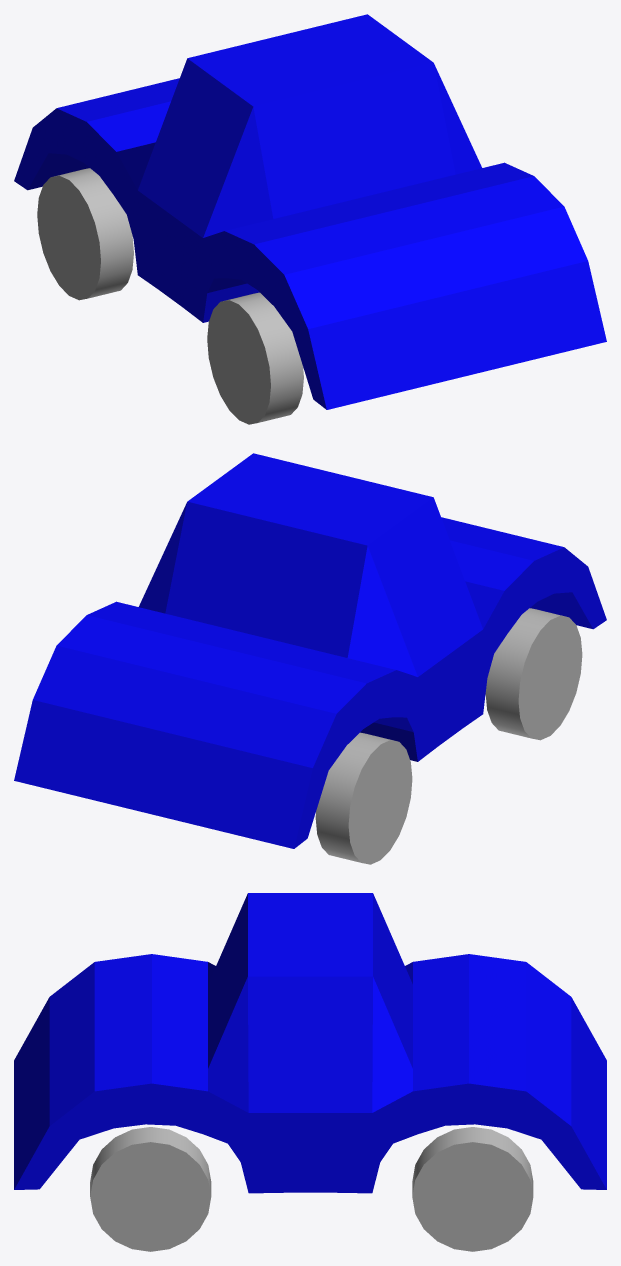
The model's file is ashley_car.glb.
The picture shows the model from 3 angles, top to bottom: view 1: azimuth 30°, elevation 25°; view 2: azimuth 150°, elevation 25°; view 3: azimuth 270°, elevation 25°; orthographic projection. The views are drawn at different scales.
Visible parts, largest first — view 1: polySurface7, pCylinder5; view 2: polySurface7, pCylinder5; view 3: polySurface7, pCylinder5.
Part boxes in pixels (left/top/right/bottom): polySurface7: left=14, top=14, right=606, bottom=409; pCylinder5: left=37, top=168, right=303, bottom=424; polySurface7: left=14, top=453, right=606, bottom=848; pCylinder5: left=315, top=608, right=582, bottom=864; polySurface7: left=14, top=893, right=606, bottom=1193; pCylinder5: left=90, top=1127, right=533, bottom=1251.
Size of the model in its own units: 55.65 by 44.92 by 97.9.
